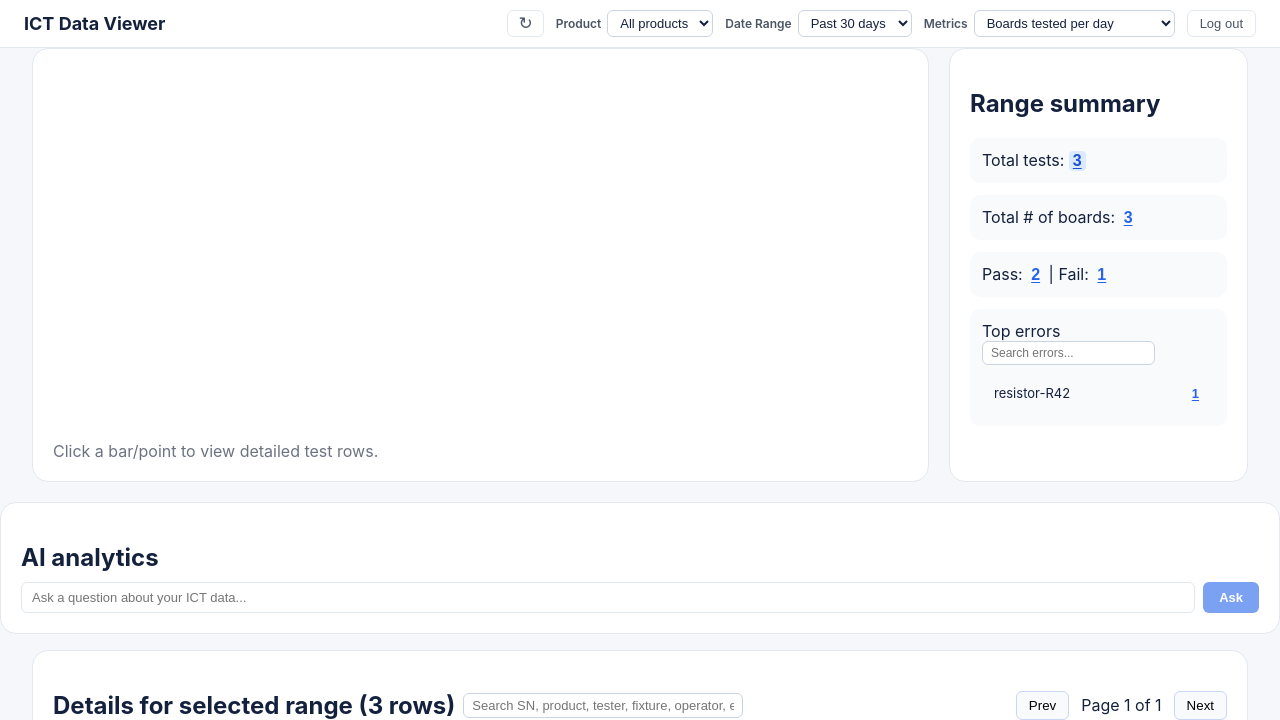
Scenario: HomePage › U6 — text filter (server-side) › a row matching error location is included; no-match row is excluded
Check: the heading "Details for selected range (3 rows)" is shown, box 53,691 -> 455,719
Type "resistor-R42" into the field with placeholder "Search SN, product, tester, fixture, operator, errors..." at (603, 705), box 463,693 -> 743,718
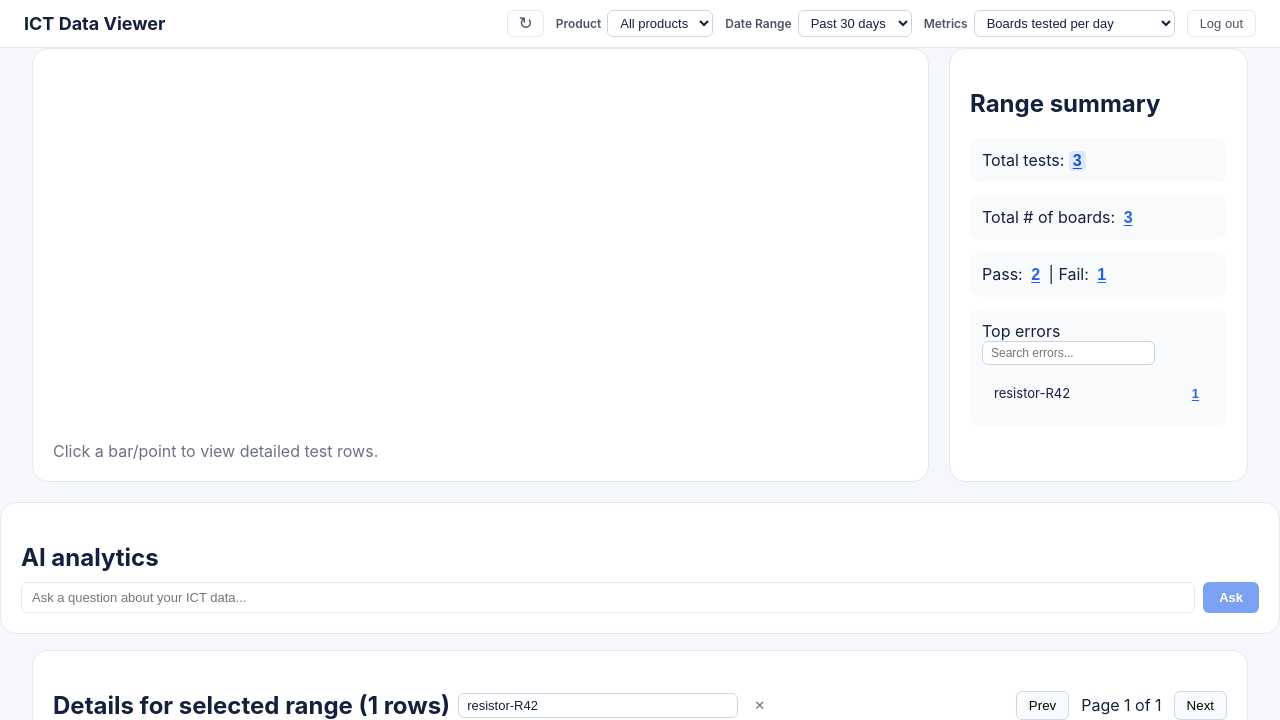
Check: the heading "Details for selected range (1 rows)" is shown, box 53,691 -> 450,719
